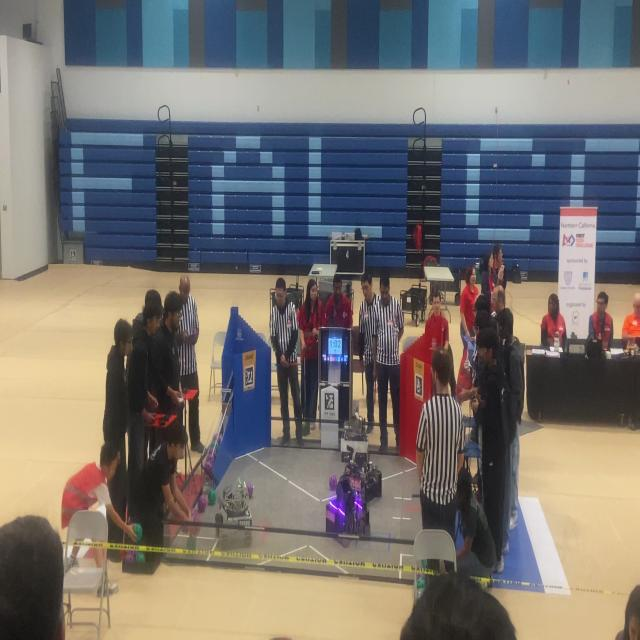artifact_green: (197, 496, 207, 515), (203, 459, 212, 478), (133, 523, 142, 541), (187, 536, 196, 551), (208, 489, 216, 505), (329, 475, 337, 491), (125, 551, 135, 562), (136, 552, 145, 563), (206, 446, 213, 460), (215, 513, 223, 525), (417, 577, 425, 589), (416, 589, 424, 599), (417, 572, 427, 579), (194, 513, 201, 522), (212, 451, 217, 463), (217, 433, 222, 444), (214, 441, 219, 452), (422, 560, 428, 569), (121, 551, 125, 561), (191, 508, 195, 518)
artifact_purple: (203, 460, 213, 478), (198, 496, 206, 513), (329, 475, 337, 491), (206, 456, 215, 470), (125, 551, 136, 562), (207, 454, 215, 469), (247, 483, 253, 498), (207, 446, 213, 460), (208, 445, 213, 458), (203, 459, 208, 472), (194, 513, 201, 522), (214, 441, 219, 453), (217, 434, 222, 444), (212, 452, 216, 463), (191, 508, 195, 517)
